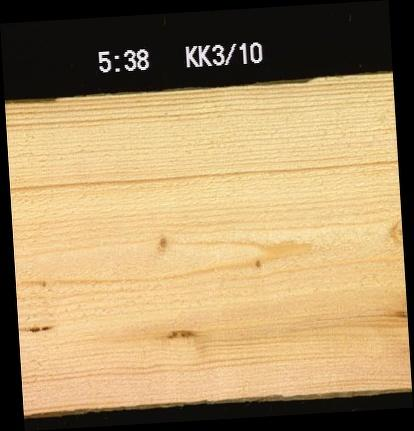small_knot: (158, 236, 167, 248), (253, 256, 261, 269), (39, 279, 46, 287)
